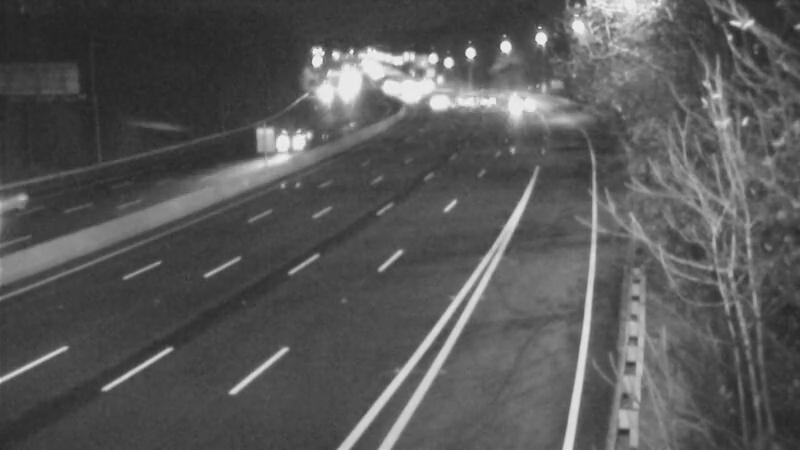vehicle: (1, 159, 71, 239), (408, 73, 458, 123), (461, 75, 511, 125), (431, 74, 481, 124), (491, 77, 541, 127), (281, 117, 331, 167)
